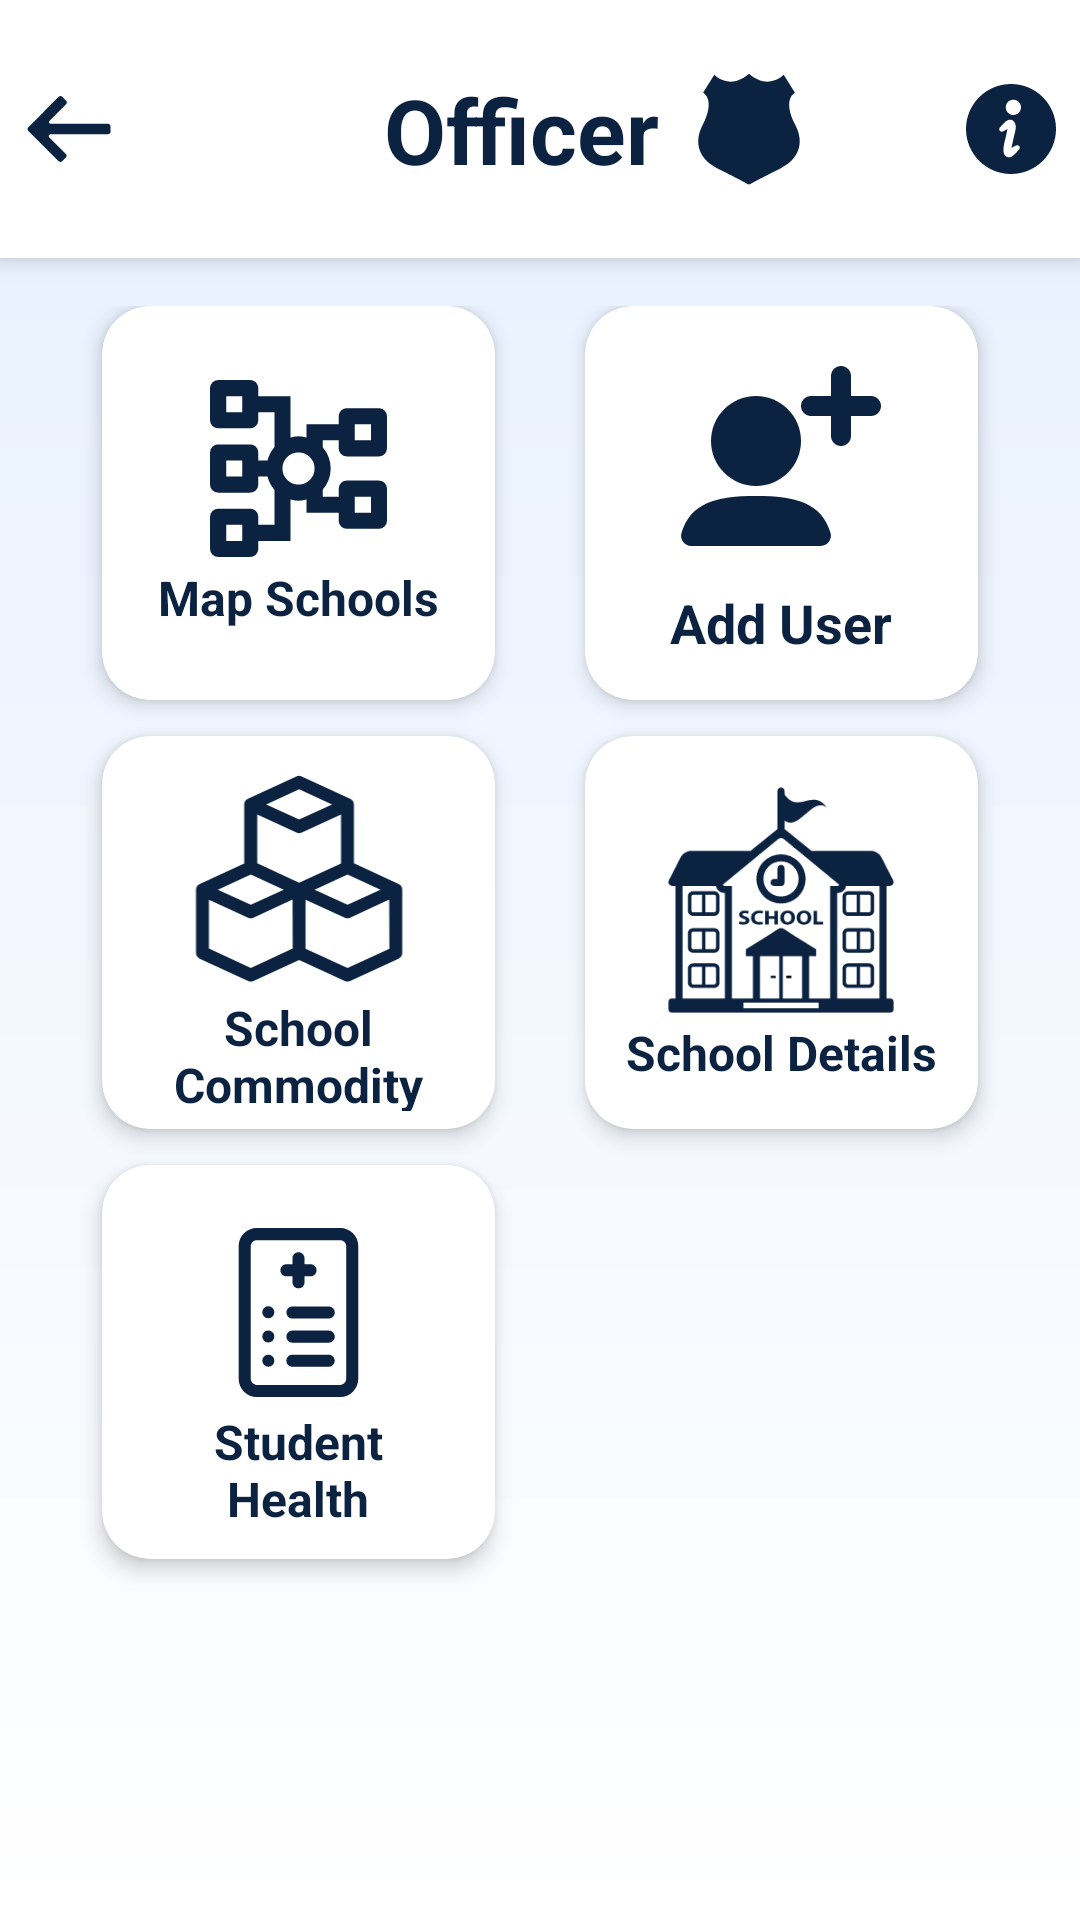

Point at icon controls on the screen. Image size 1080*1920, points as (x,y).
back: (69,129)
health report list: (298,1312)
